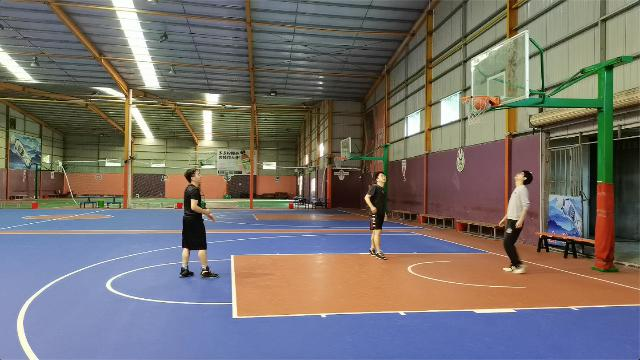basket: (460, 94, 490, 125)
goal: (472, 94, 490, 110)
